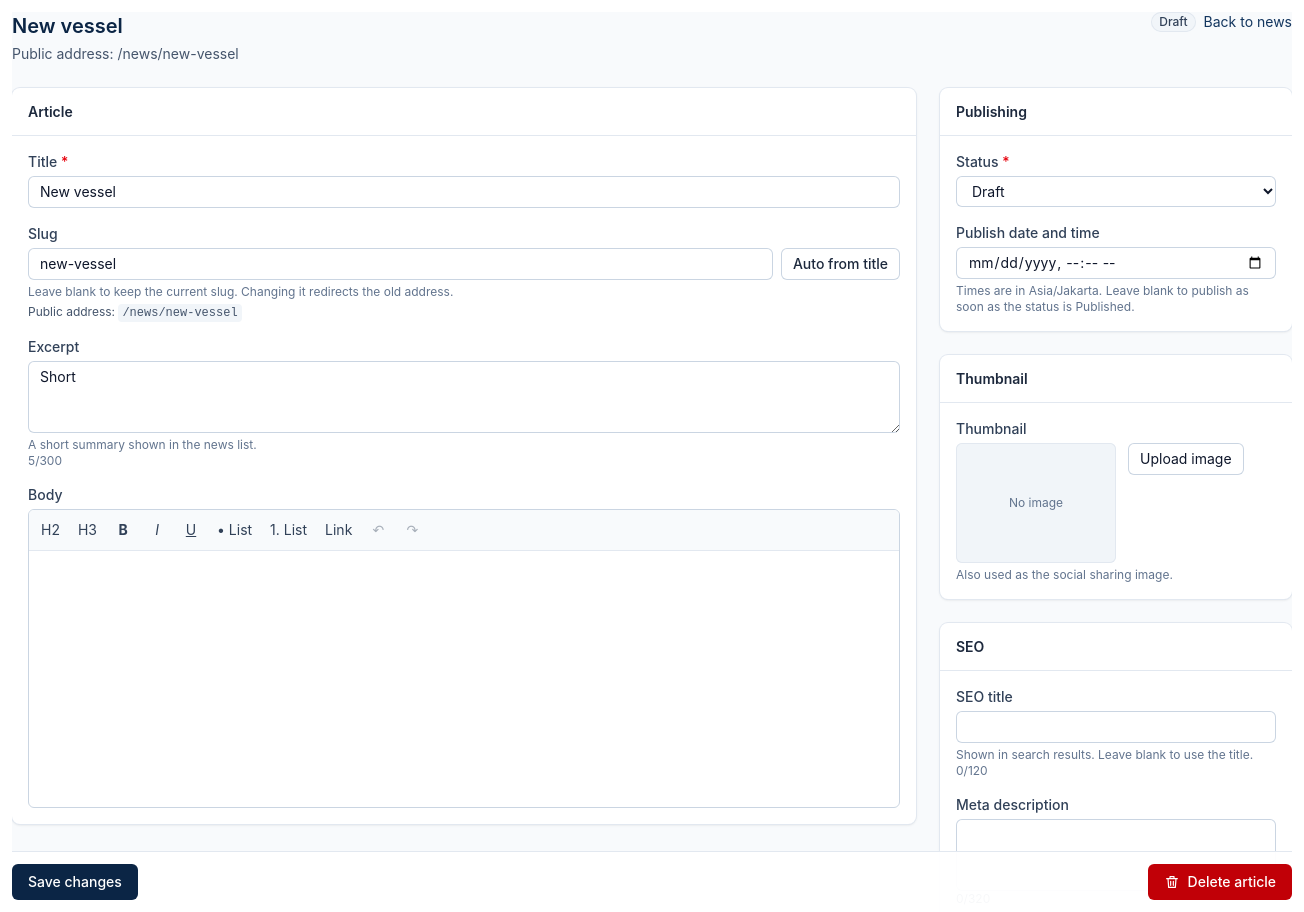
NewsFormPage › counts excerpt characters
The image size is (1304, 912).
Type "abc" into the text box labelled "Excerpt" at point(464, 397), box 28,361 -> 900,433
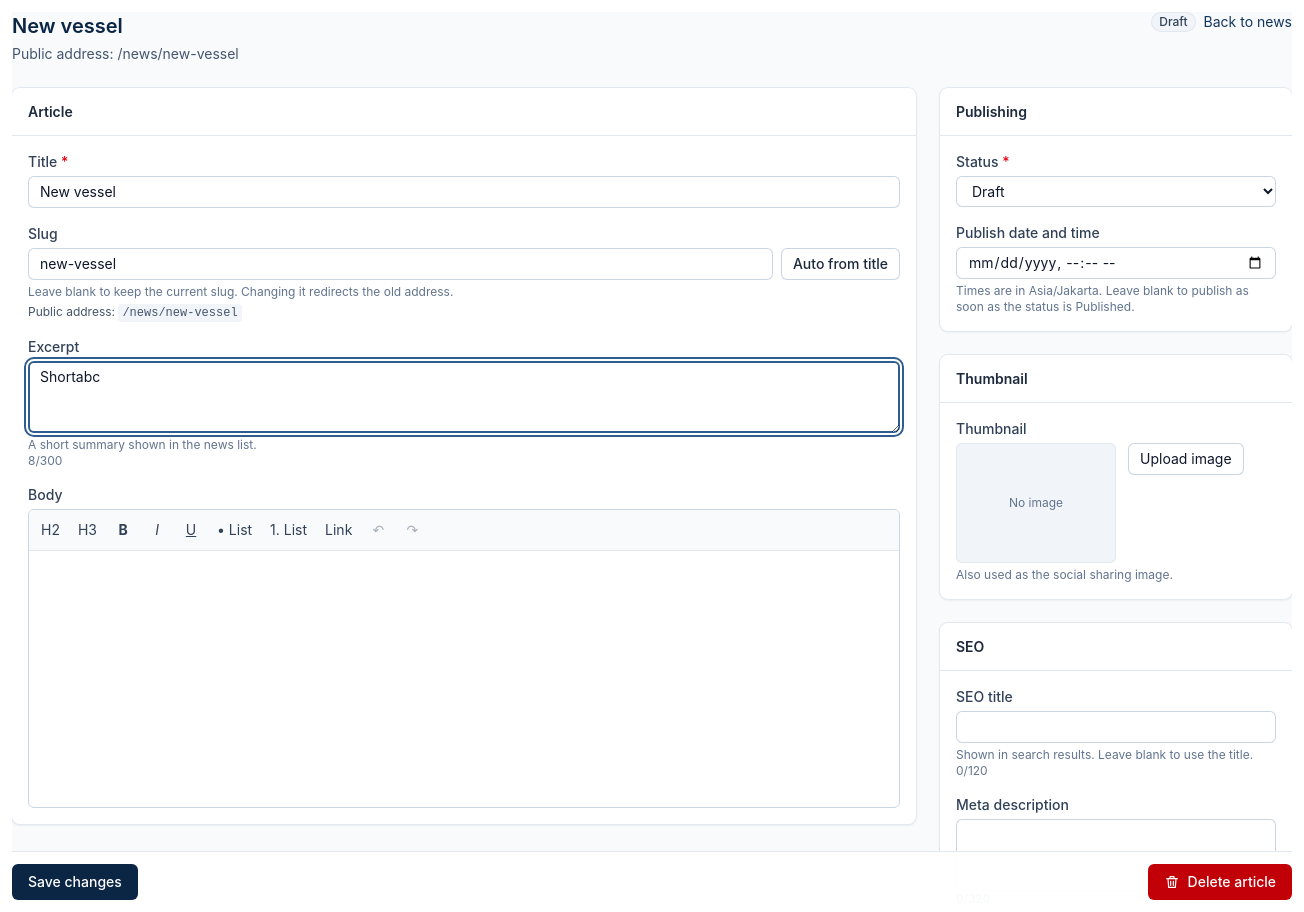
Now the text named "Excerpt length" reads "8/300", box 28,453 -> 62,468
